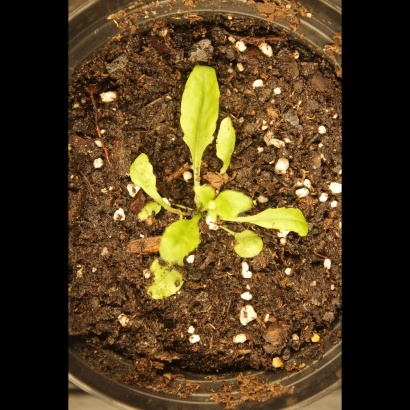leaf: (176, 60, 220, 172), (151, 214, 201, 269), (141, 255, 189, 305), (128, 147, 165, 204), (253, 207, 316, 239), (211, 107, 241, 170), (210, 189, 262, 220), (228, 226, 266, 257), (134, 196, 166, 225), (192, 180, 215, 206)
